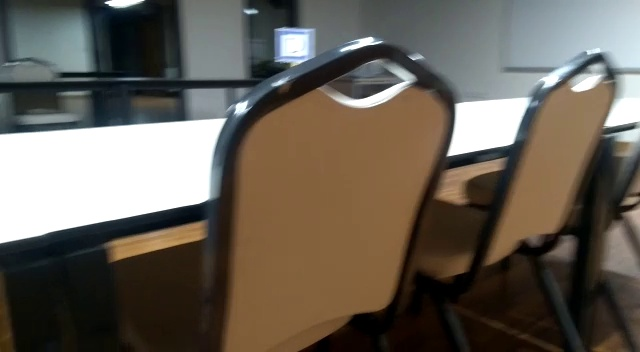durak: (277, 28, 312, 62)
